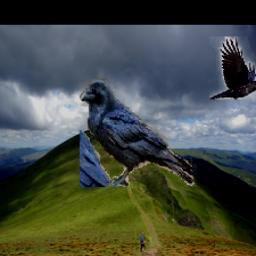Crow: (81, 79, 198, 188), (209, 36, 256, 99)
